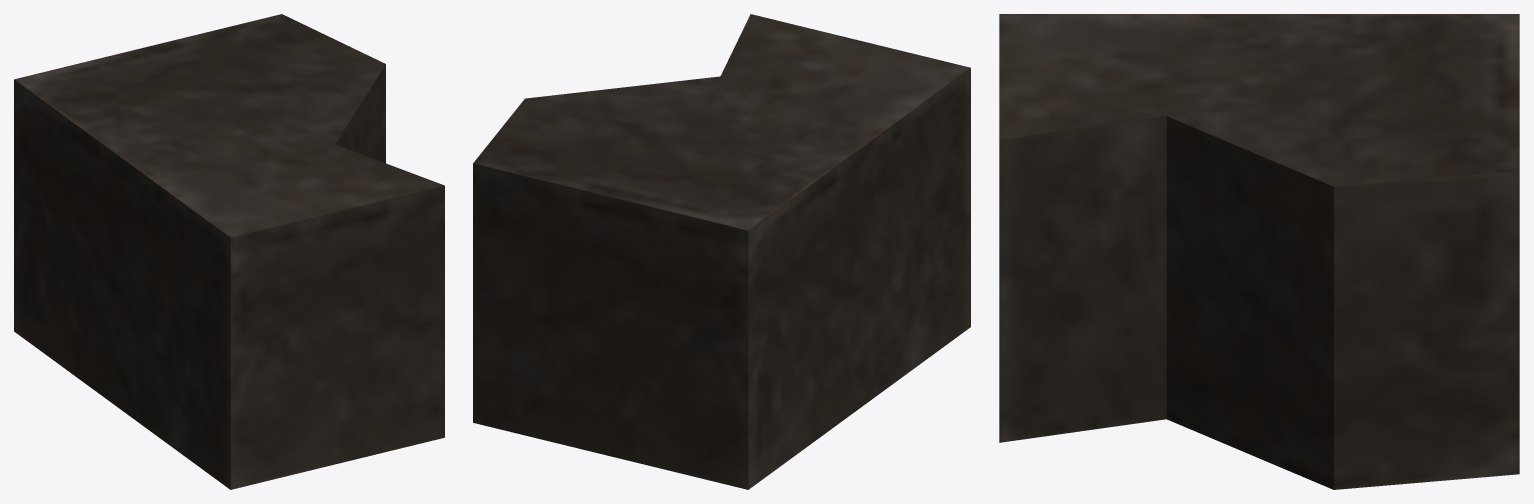
The model's file is brick_mx_3_3.dae.
The picture shows the model from 3 angles, left to right: view 1: azimuth 30°, elevation 25°; view 2: azimuth 150°, elevation 25°; view 3: azimuth 270°, elevation 25°; orthographic projection. The views are drawn at different scales.
Parts seen in each view (by area): view 1: brick_mx_3_3; view 2: brick_mx_3_3; view 3: brick_mx_3_3.
Part boxes in pixels (x1,y1,x2,y2): brick_mx_3_3: [14, 14, 444, 489]; brick_mx_3_3: [473, 14, 970, 489]; brick_mx_3_3: [999, 14, 1519, 489].
Bounding box in the file's own units: 0.11 × 0.14 × 0.09.
Materials: 1 (1 with a texture image).
